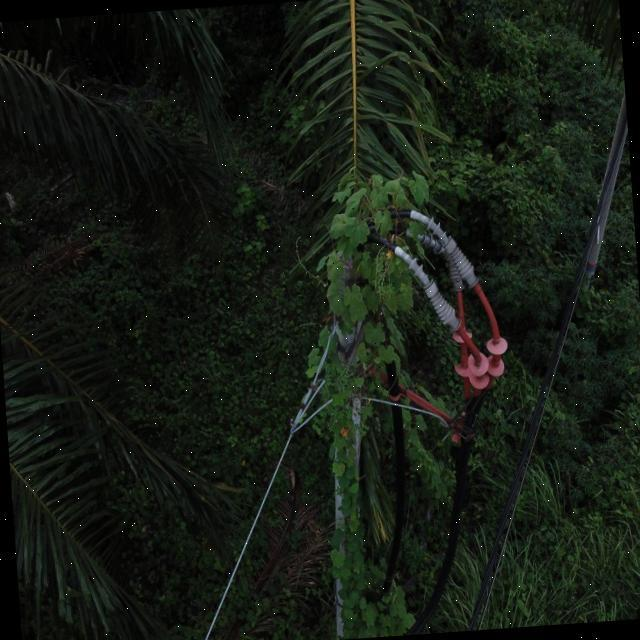critical vegetation: (266, 159, 469, 613)
